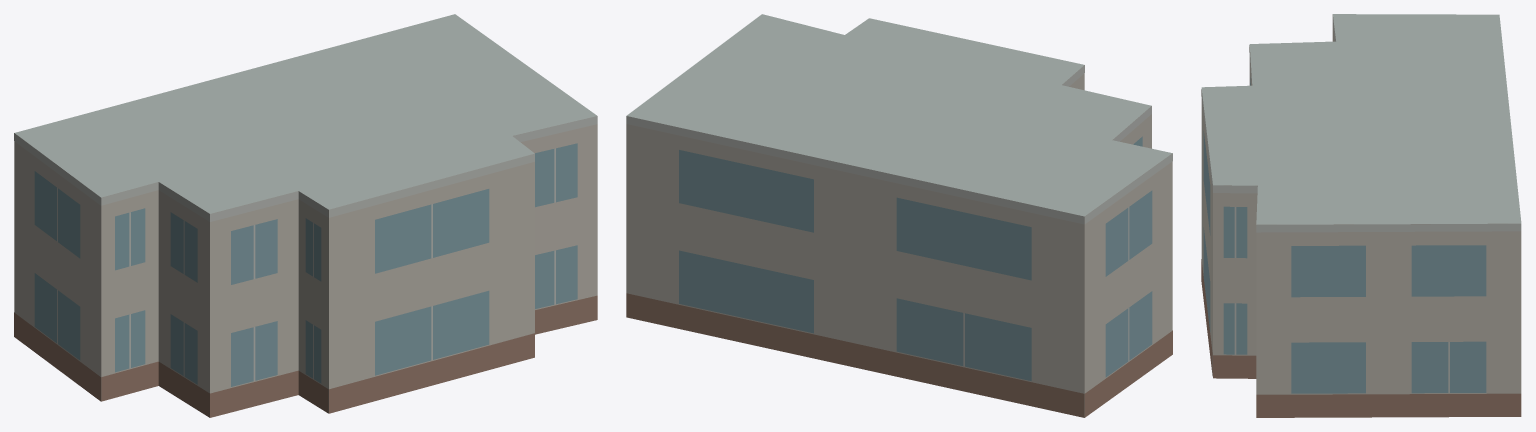
Rendered from survey-upis-32884048.glb.
3 views of the same model, side by side, from view 1: azimuth 30°, elevation 25°; view 2: azimuth 150°, elevation 25°; view 3: azimuth 270°, elevation 25° (orthographic). The views are drawn at different scales.
Parts seen in each view (by area): view 1: survey-upis-32884048.tmp; view 2: survey-upis-32884048.tmp; view 3: survey-upis-32884048.tmp.
Part boxes in pixels (<box>): survey-upis-32884048.tmp: <box>14,14,597,417</box>; survey-upis-32884048.tmp: <box>626,14,1172,417</box>; survey-upis-32884048.tmp: <box>1201,14,1521,417</box>.
Size of the model in its own units: 14.29 by 6.1 by 9.17.
